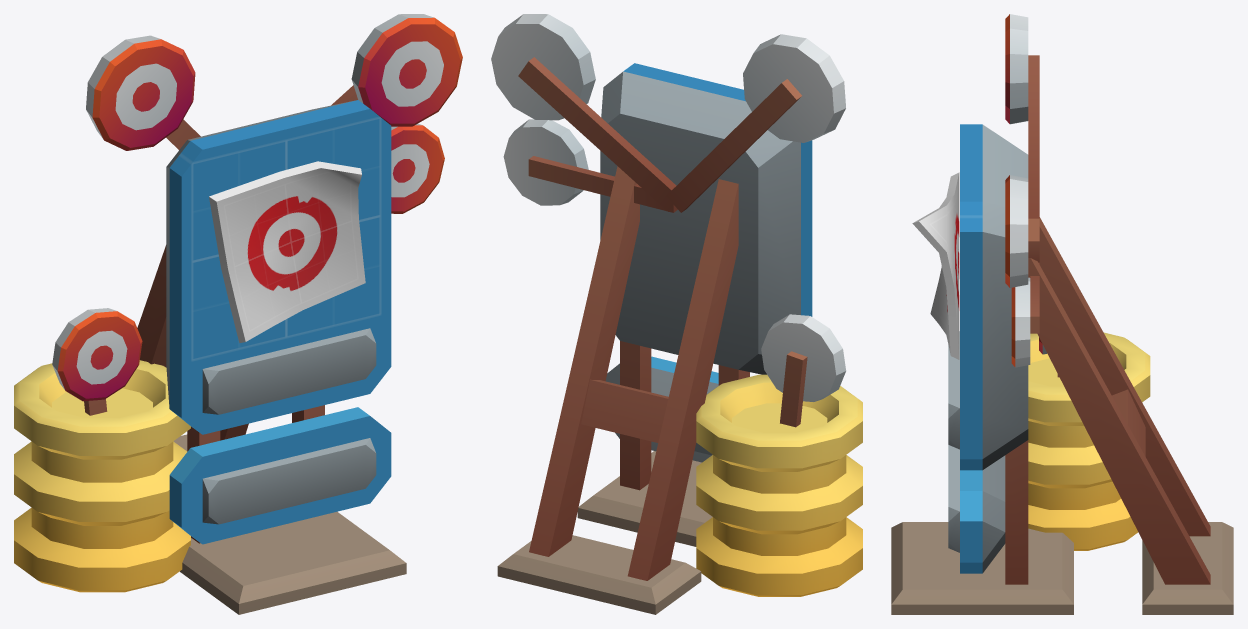
File: target_stand_A_Decorated.glb
The picture shows the model from 3 angles, left to right: view 1: azimuth 30°, elevation 25°; view 2: azimuth 150°, elevation 25°; view 3: azimuth 270°, elevation 25°; orthographic projection. The views are drawn at different scales.
Parts seen in each view (by area): view 1: target_stand_A_Decorated; view 2: target_stand_A_Decorated; view 3: target_stand_A_Decorated.
Part boxes in pixels (x1,y1,x2,y2): target_stand_A_Decorated: [14, 14, 462, 614]; target_stand_A_Decorated: [491, 14, 862, 614]; target_stand_A_Decorated: [891, 14, 1233, 614].
Bounding box in the file's own units: 1.94 × 2.44 × 1.5.
1 material, 1 textured.
